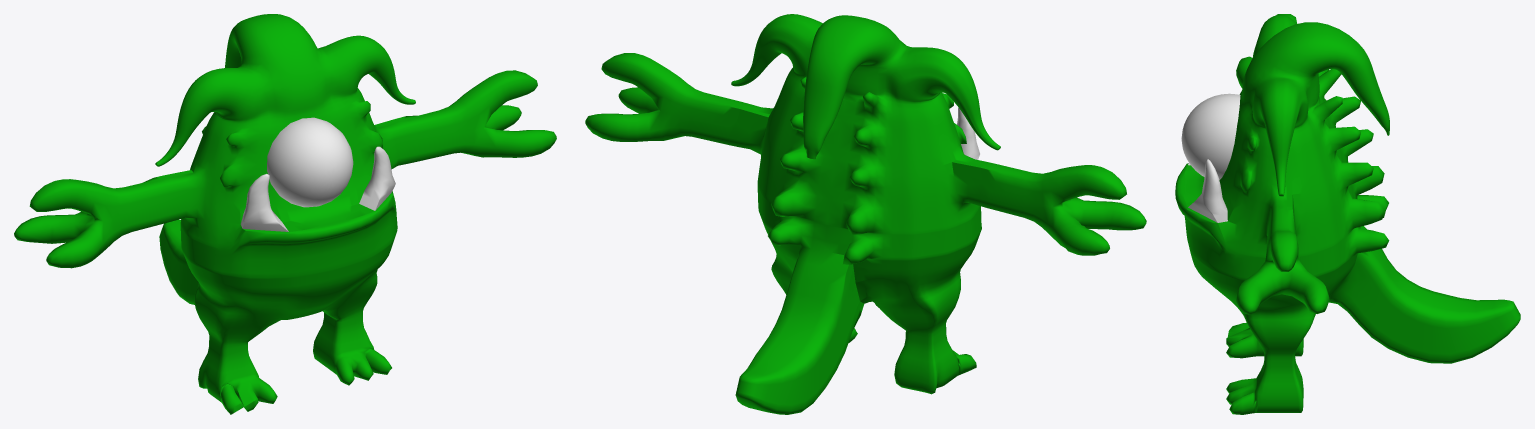
File: TROLL SK.fbx
3 views of the same model, side by side, from view 1: azimuth 30°, elevation 25°; view 2: azimuth 150°, elevation 25°; view 3: azimuth 270°, elevation 25° (orthographic). The views are drawn at different scales.
Visible parts, largest first — view 1: BODY, EYEBALL, FANG_LEFT, FANG_RIGHT; view 2: BODY, FANG_LEFT; view 3: BODY, EYEBALL, FANG_RIGHT.
Part boxes in pixels (box(x1,y1,x2,y2)): BODY: box(14, 14, 556, 414); EYEBALL: box(267, 117, 353, 207); FANG_LEFT: box(240, 174, 288, 231); FANG_RIGHT: box(359, 146, 395, 210); BODY: box(585, 14, 1146, 414); FANG_LEFT: box(957, 107, 979, 159); BODY: box(1175, 14, 1520, 414); EYEBALL: box(1181, 93, 1240, 179); FANG_RIGHT: box(1188, 159, 1227, 222).
Bounding box in the file's own units: 395 × 257 × 230.
